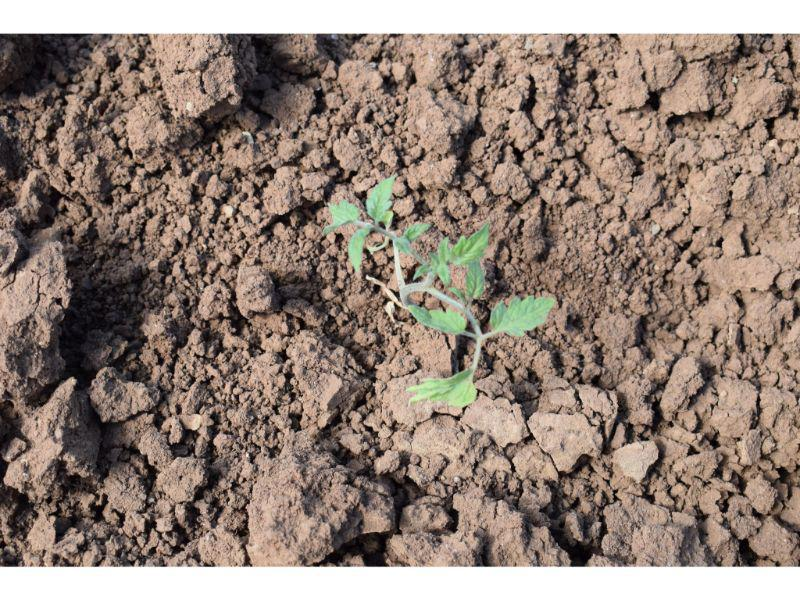tomato: (330, 173, 555, 408)
